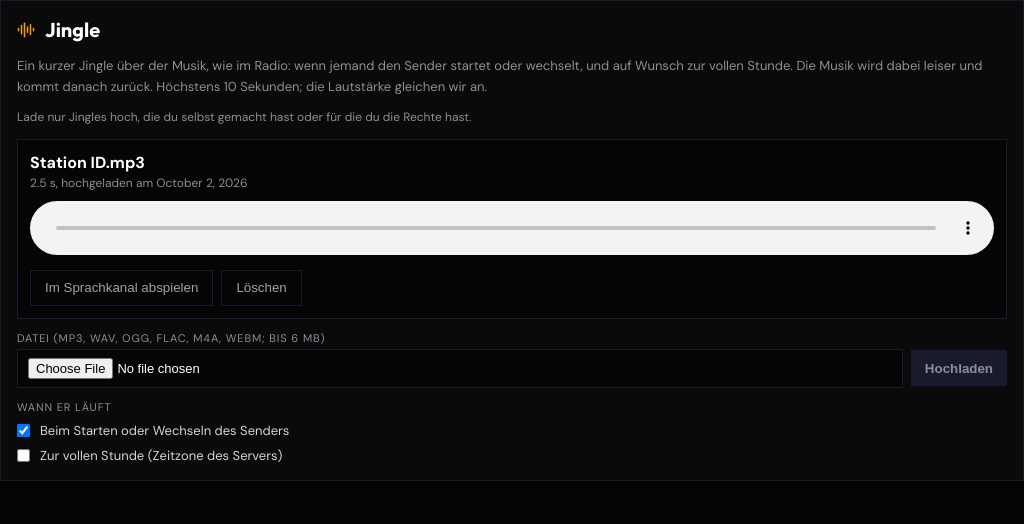
Test: the jingle card › shows what the server or the preview answers
This screenshot has width=1024, height=524.
Click the button with test id "jingle-play": (122, 288) top-left (30, 270), bottom-right (213, 306)
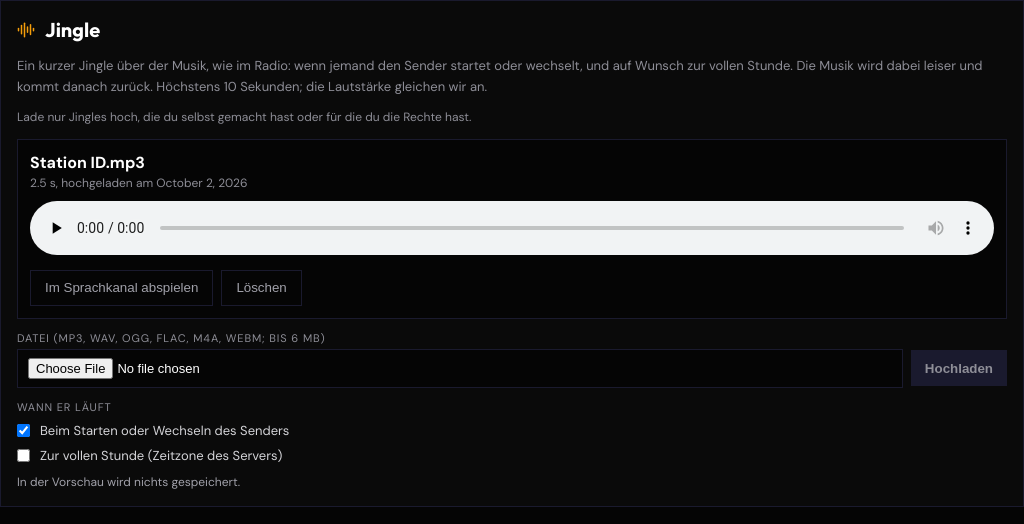
Now the text with test id "jingle-note" reads "In der Vorschau wird nichts gespeichert.", box top-left (17, 474), bottom-right (240, 490)
